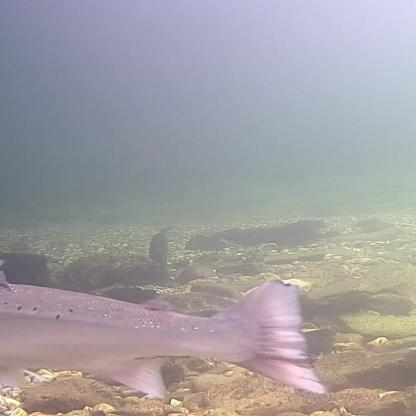salmon: (0, 255, 331, 402)
